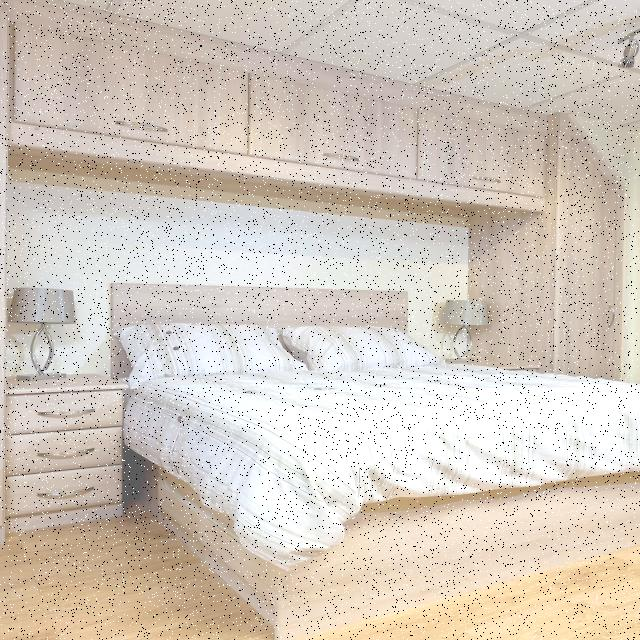bed: (105, 280, 640, 512)
